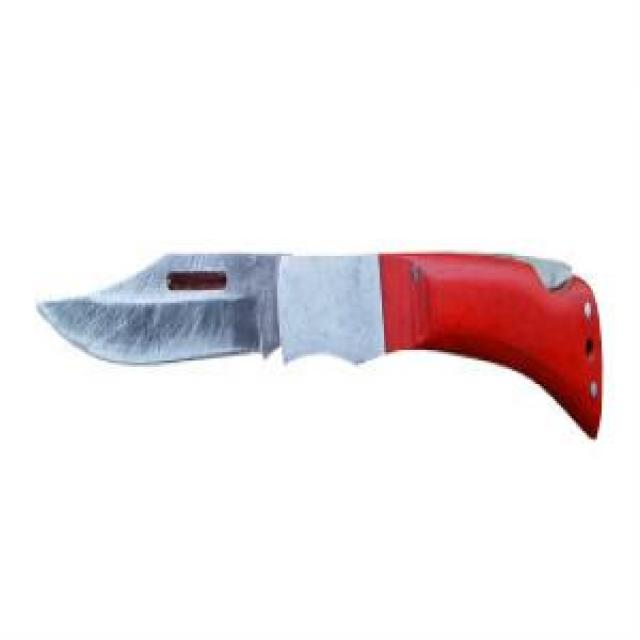knife: (36, 246, 604, 440)
